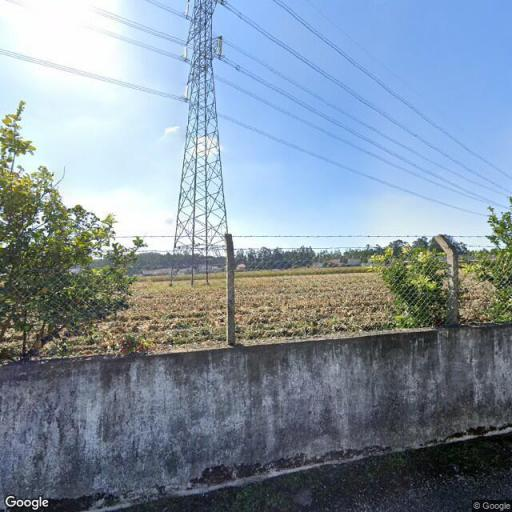ss_3: (167, 0, 236, 285)
